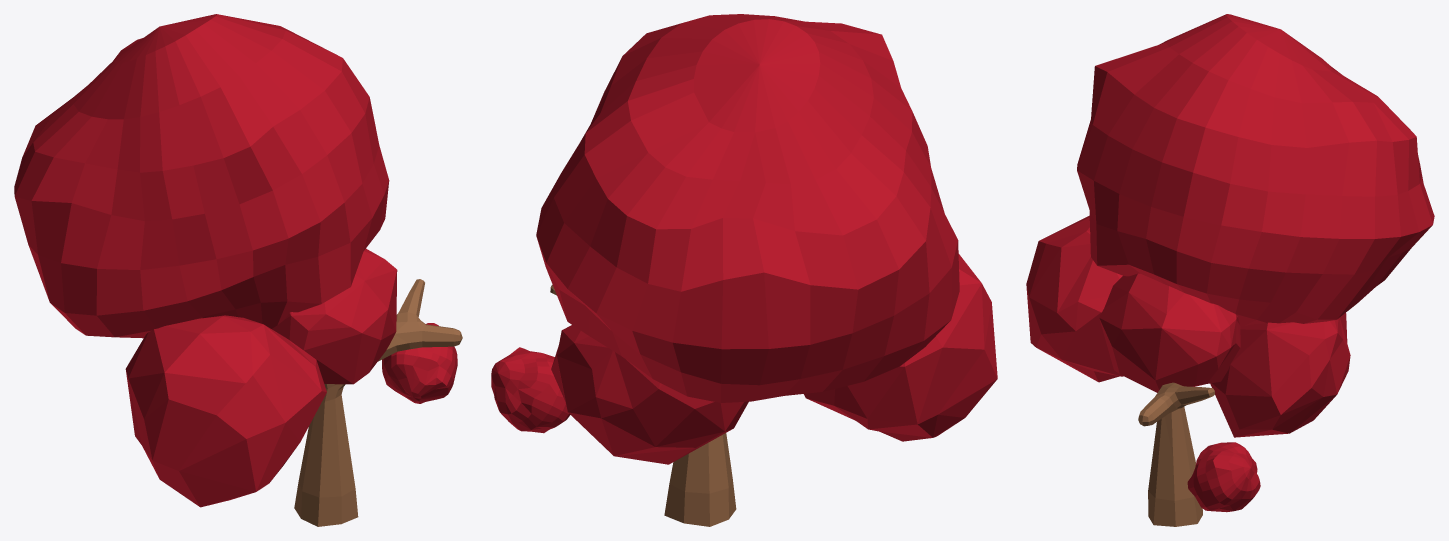
The model's file is tree-dead-complete-9-012.glb.
3 renders of one model, left to right at view 1: azimuth 30°, elevation 25°; view 2: azimuth 150°, elevation 25°; view 3: azimuth 270°, elevation 25°, orthographic. The views are drawn at different scales.
Parts seen in each view (by area): view 1: TREE 9.007_520, TREE 9.006_521; view 2: TREE 9.007_520, TREE 9.006_521; view 3: TREE 9.007_520, TREE 9.006_521.
Boxes of the visible parts, bbox=[...] form: TREE 9.007_520: bbox=[14, 14, 457, 507]; TREE 9.006_521: bbox=[294, 279, 462, 526]; TREE 9.007_520: bbox=[491, 14, 997, 464]; TREE 9.006_521: bbox=[550, 285, 736, 526]; TREE 9.007_520: bbox=[1026, 14, 1434, 512]; TREE 9.006_521: bbox=[1138, 382, 1214, 526].
Bounding box in the file's own units: 1.3 × 1.5 × 1.22.
